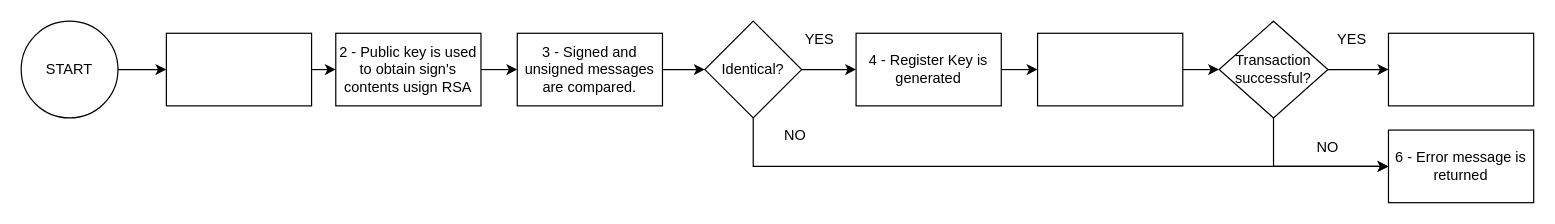
This 1555x224 diagram has some shape labels left out. The centre of each missing label's shape, as x and y in pixels:
1 - Chaincode is called. Call contains a RegisterPetition.: pixel 238 69
5 - Transaction for storing KeyPair is proposed: pixel 1109 69
6 - RegisterKey is returned: pixel 1460 69
